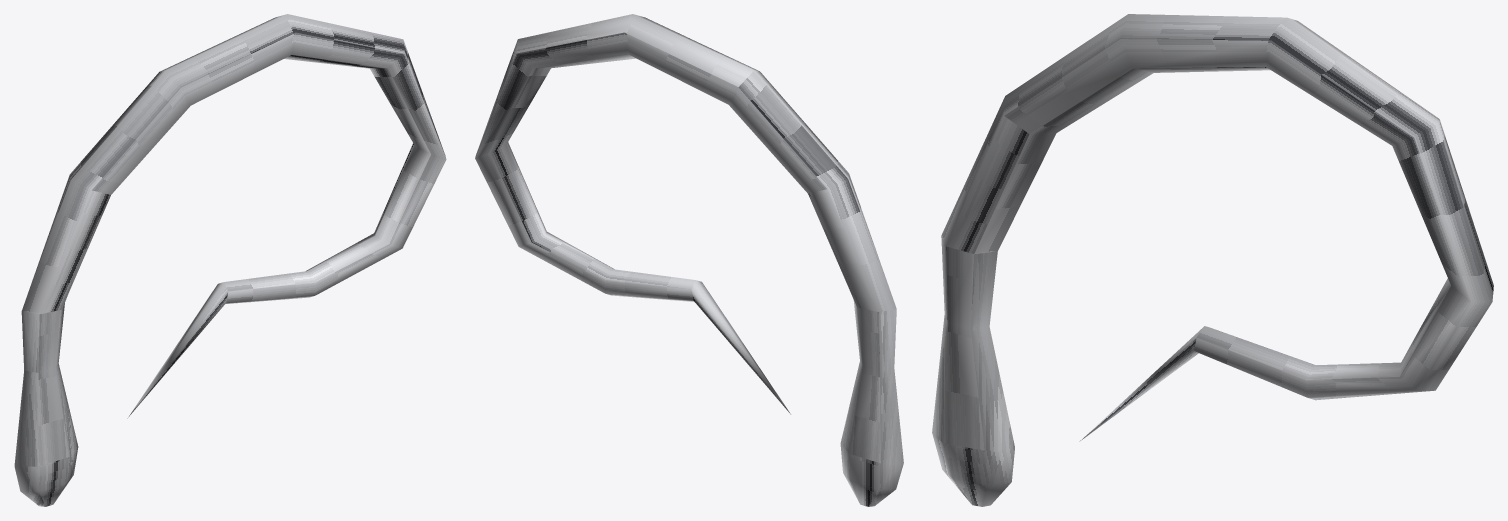
Rendered from snake_000014.obj.
The picture shows the model from 3 angles, left to right: view 1: azimuth 30°, elevation 25°; view 2: azimuth 150°, elevation 25°; view 3: azimuth 330°, elevation 25°; orthographic projection. The views are drawn at different scales.
Visible parts, largest first — view 1: Cylinder; view 2: Cylinder; view 3: Cylinder.
Part boxes in pixels (bbox=[...]): Cylinder: bbox=[14, 14, 446, 506]; Cylinder: bbox=[475, 14, 903, 506]; Cylinder: bbox=[932, 14, 1493, 506].
Bounding box in the file's own units: 4.2 × 4.05 × 0.3671.
